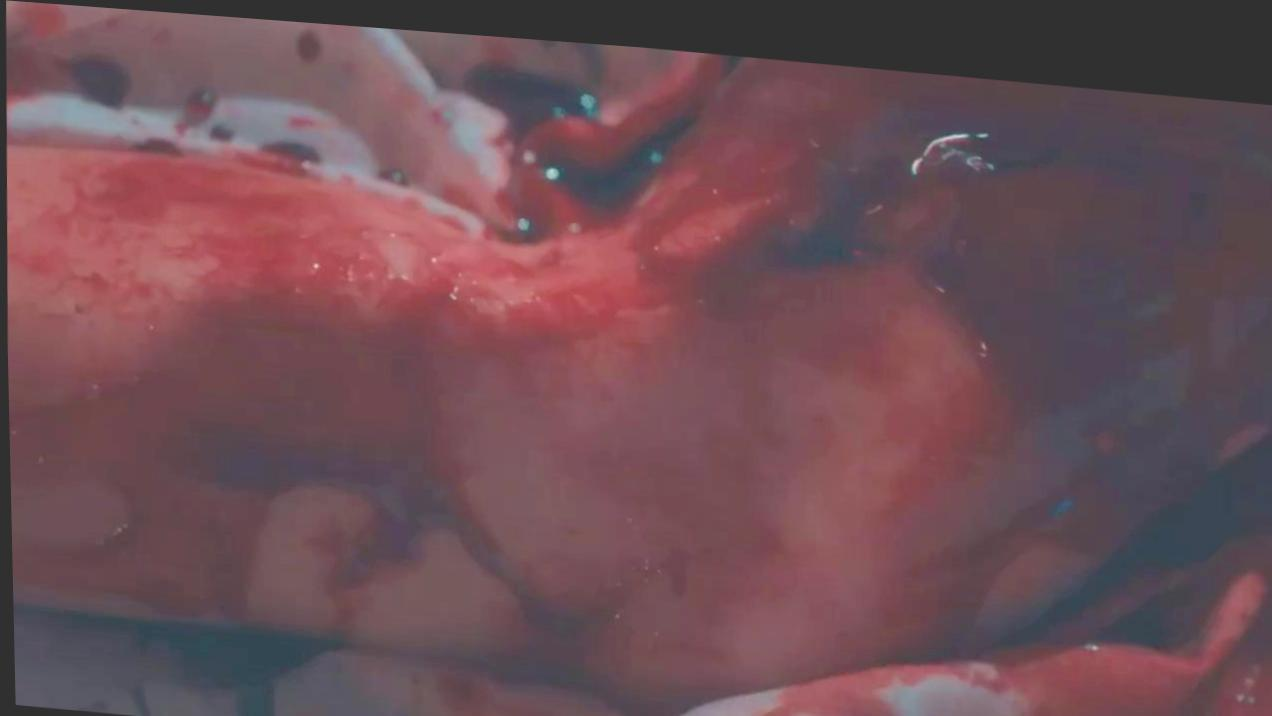Fire: (6, 33, 1272, 716), (418, 94, 476, 209), (41, 50, 134, 105), (179, 67, 230, 139), (6, 0, 62, 40), (289, 25, 319, 61), (483, 126, 505, 139), (142, 132, 168, 141), (387, 159, 399, 174)
